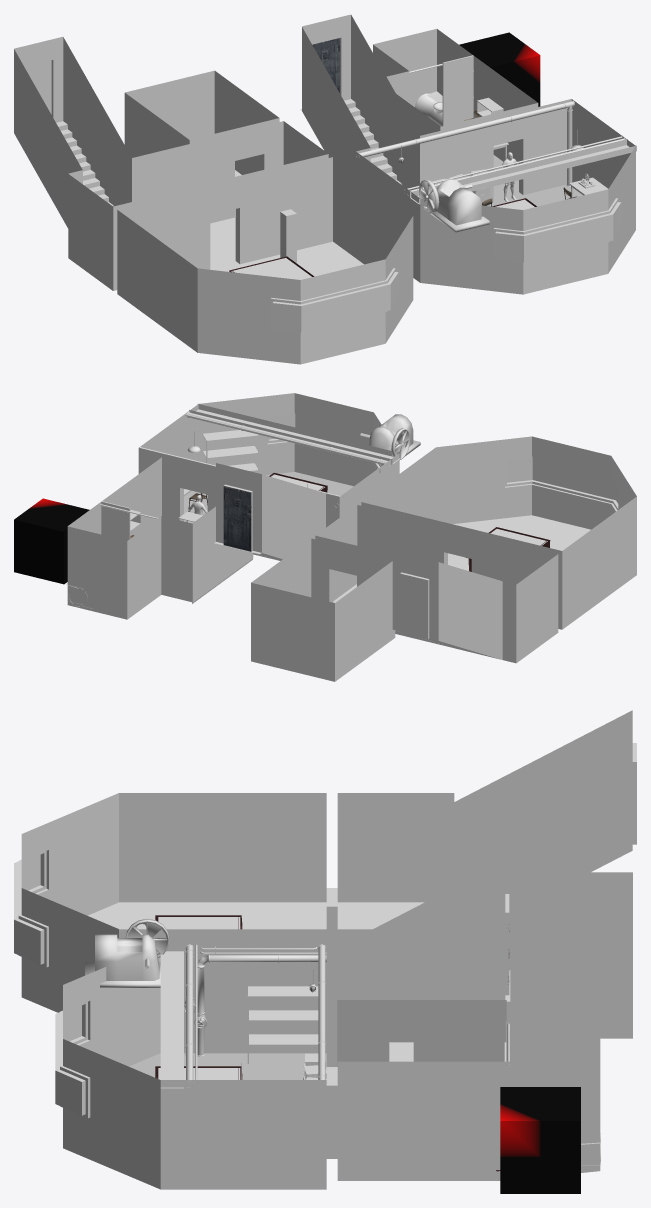
The model's file is Bunker2.fbx.
3 views of the same model, one above another, from view 1: azimuth 30°, elevation 25°; view 2: azimuth 150°, elevation 25°; view 3: azimuth 270°, elevation 25° (orthographic). The views are drawn at different scales.
Parts seen in each view (by area): view 1: Cube, Cube.002, Cube.030, TestingCube, Cube.028, Cube.005, Cube.054, Cylinder.012, Cube.011, Plane, Cube.001, Cube.003 (+5 smaller); view 2: Cube, Cube.002, TestingCube, Cube.028, Cube.042, Cube.030, Cube.018, Cube.054, Cube.005, Cylinder.009, Cube.011, Cylinder.011 (+1 smaller); view 3: Cube, Cube.002, Plane.002, TestingCube, Cube.054, Cube.028, Cube.011, Cube.010, Cube.030, Cylinder.003, Cylinder.009, Cylinder.012 (+2 smaller).
Boxes of the visible parts, box(x1,y1,x2,y2) form: Cube: box(14, 36, 413, 364); Cube.002: box(302, 14, 635, 294); Cube.030: box(493, 199, 621, 262); TestingCube: box(459, 32, 540, 106); Cube.028: box(410, 139, 636, 204); Cube.005: box(442, 55, 473, 125); Cube.054: box(431, 179, 489, 232); Cylinder.012: box(356, 100, 574, 186); Cube.011: box(490, 155, 582, 206); Plane: box(231, 258, 311, 279); Cube.001: box(56, 121, 113, 206); Cube.003: box(300, 99, 401, 184); Cube: box(251, 436, 636, 681); Cube.002: box(67, 393, 399, 619); TestingCube: box(14, 498, 89, 584); Cube.028: box(189, 404, 400, 464); Cube.042: box(223, 486, 251, 551); Cube.030: box(267, 412, 380, 466); Cube.018: box(202, 430, 258, 473); Cube.054: box(368, 414, 420, 456); Cube.005: box(101, 501, 130, 540); Cylinder.009: box(186, 412, 389, 465); Cube.011: box(184, 472, 353, 523); Cylinder.011: box(185, 414, 385, 463); Cube: box(14, 710, 636, 1038); Cube.002: box(60, 861, 600, 1189); Plane.002: box(337, 1000, 506, 1066); TestingCube: box(500, 1087, 580, 1193); Cube.054: box(85, 934, 160, 987); Cube.028: box(160, 951, 183, 1088); Cube.011: box(129, 1053, 326, 1079); Cube.010: box(247, 986, 318, 1063); Cube.030: box(55, 1002, 87, 1118); Cylinder.003: box(197, 954, 326, 1056); Cylinder.009: box(184, 944, 194, 1086); Cylinder.012: box(318, 944, 326, 1083).
Bounding box in the file's own units: 1820 × 582 × 1547.
